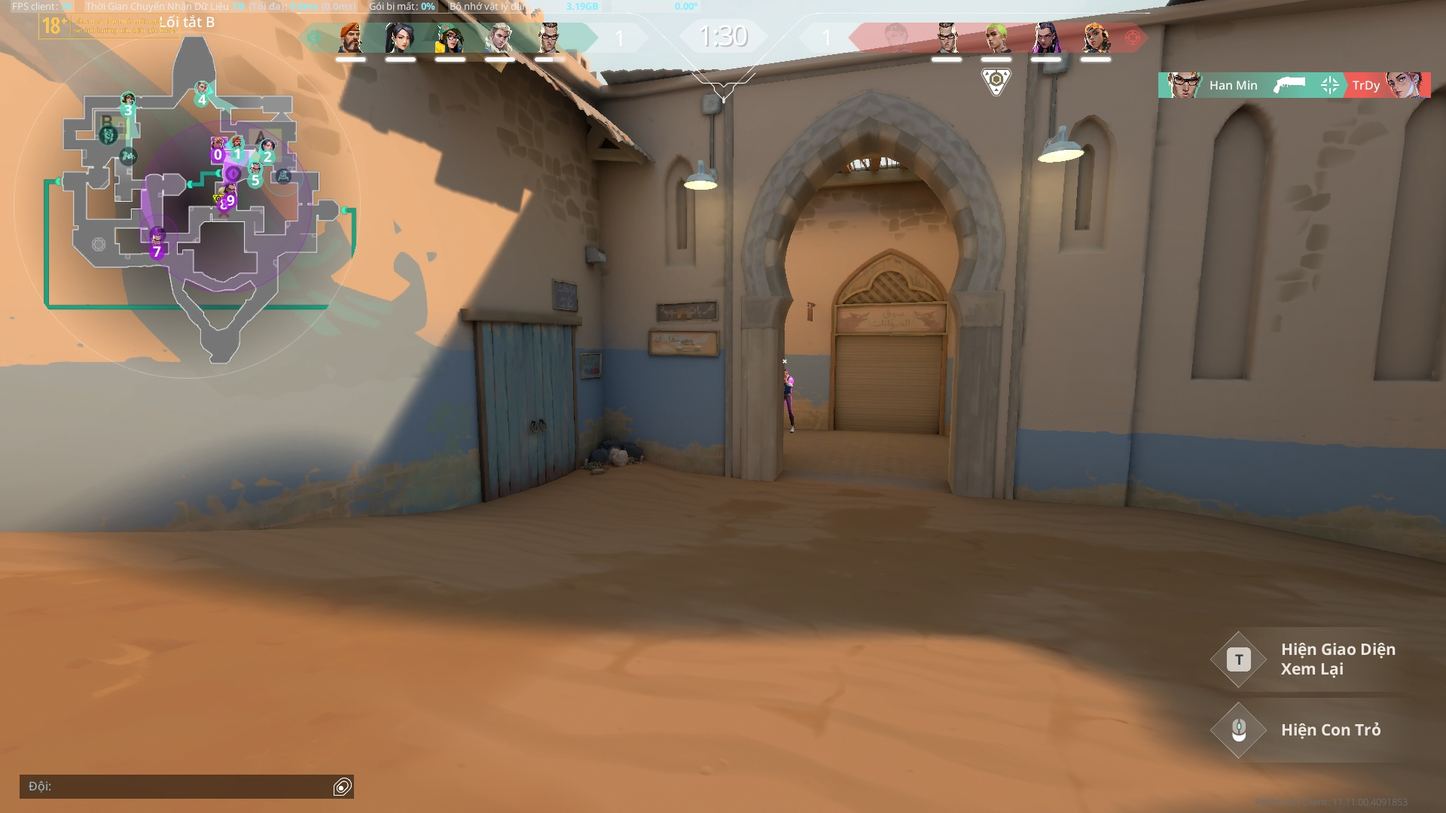body: (784, 374, 793, 392)
head: (783, 367, 788, 376)
